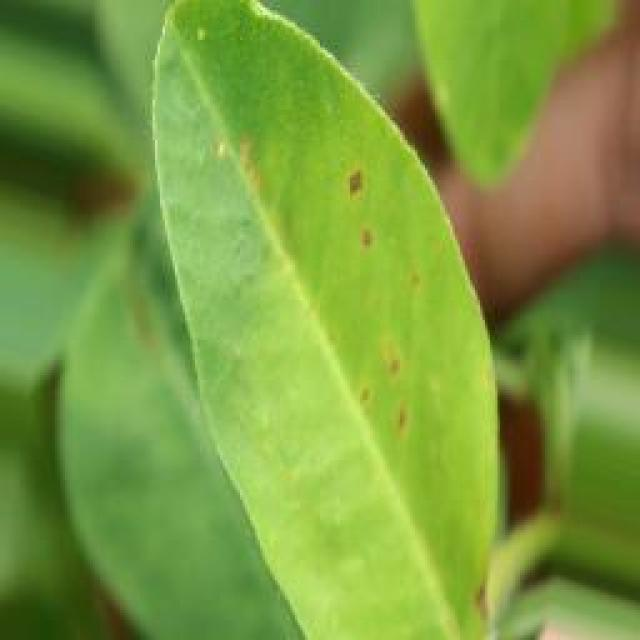Sigatoka: (349, 302, 431, 459), (335, 143, 403, 280), (432, 536, 498, 636), (211, 122, 280, 210)
